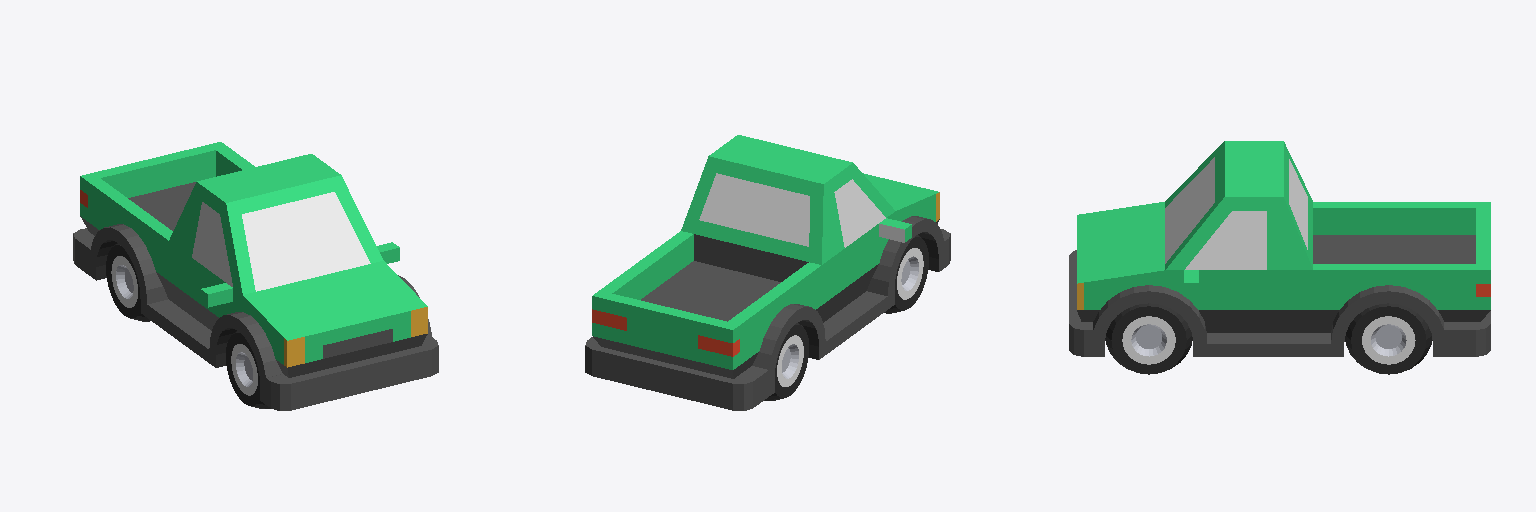
The model's file is truck.obj.
The picture shows the model from 3 angles: view 1: azimuth 30°, elevation 25°; view 2: azimuth 150°, elevation 25°; view 3: azimuth 270°, elevation 25°; orthographic projection.
Parts seen in each view (by area): view 1: body, wheel_backRight, wheel_frontRight; view 2: body, wheel_backRight, wheel_frontRight; view 3: body, wheel_frontLeft, wheel_backLeft.
Boxes of the visible parts, x1,y1,x2,y2 form: body: [73, 142, 438, 410]; wheel_backRight: [106, 243, 150, 321]; wheel_frontRight: [226, 331, 270, 408]; body: [585, 135, 950, 410]; wheel_backRight: [764, 323, 808, 400]; wheel_frontRight: [884, 235, 928, 313]; body: [1069, 141, 1490, 356]; wheel_frontLeft: [1105, 303, 1192, 374]; wheel_backLeft: [1345, 303, 1431, 374].
Bounding box in the file's own units: 1.5 × 1.3 × 2.85.